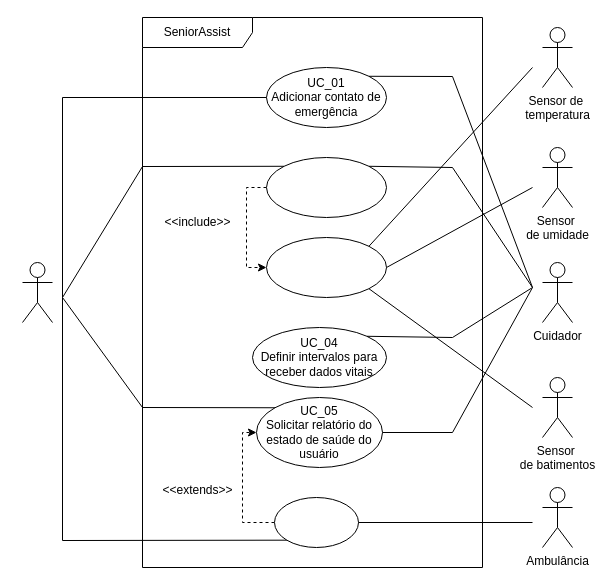
This 612x586 diagram has some shape labels left out. The centre of each missing label's shape, as x and y in pixels:
"UC_02 Visualizar dados vitais do usuário" goes at point 326,187.
"UC_03 Coletar dados vitais dos usuários" goes at point 326,267.
"UC_06 Acionar emergência" goes at point 316,522.
"Usuário" goes at point 37,292.
